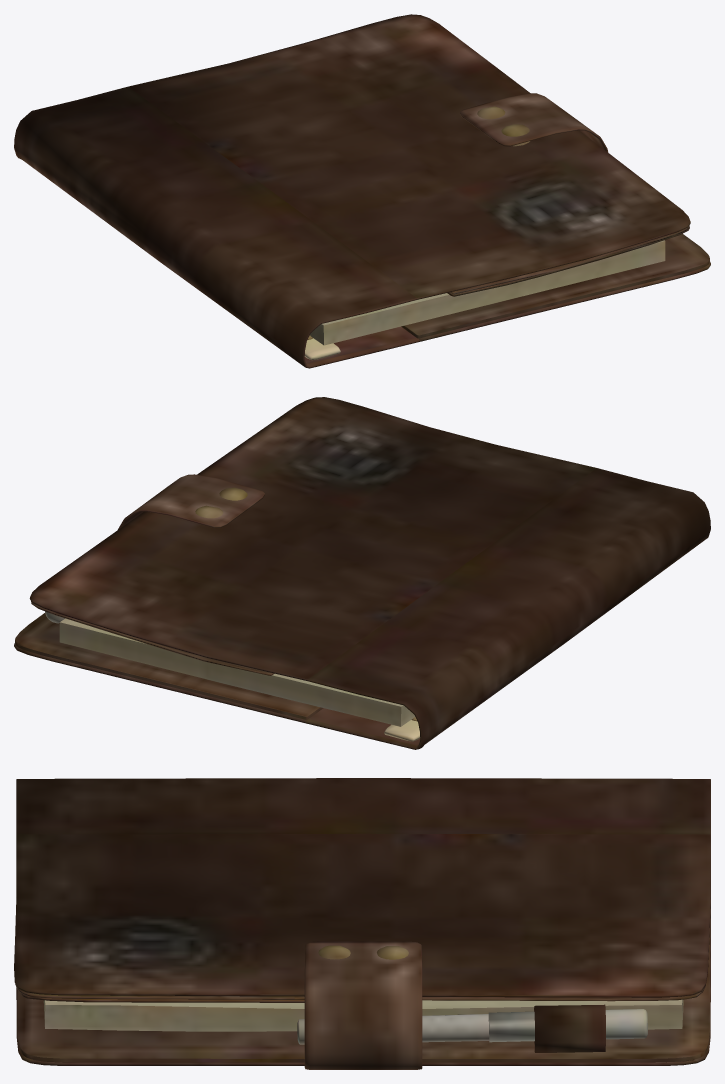
The model's file is ph_notebook.glb.
3 renders of one model, top to bottom at view 1: azimuth 30°, elevation 25°; view 2: azimuth 150°, elevation 25°; view 3: azimuth 270°, elevation 25°, orthographic. The views are drawn at different scales.
Visible parts, largest first — view 1: binder_notebook_closed; view 2: binder_notebook_closed; view 3: binder_notebook_closed.
Part boxes in pixels (x1,y1,x2,y2): binder_notebook_closed: (14, 14, 710, 368); binder_notebook_closed: (14, 397, 710, 749); binder_notebook_closed: (14, 778, 710, 1069).
Size of the model in its own units: 0.1706 by 0.0252 by 0.1999.
1 material, 1 textured.
